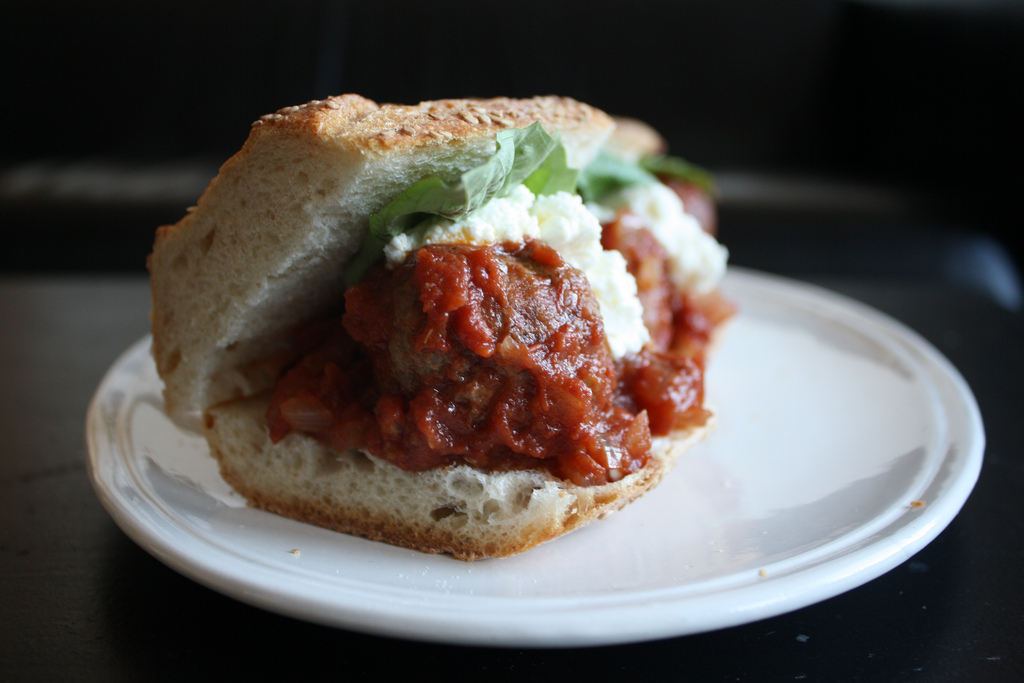chopped lettuce: (370, 134, 569, 240)
meatballs: (379, 268, 618, 449)
slice of bread: (159, 95, 595, 400), (206, 447, 638, 550)
